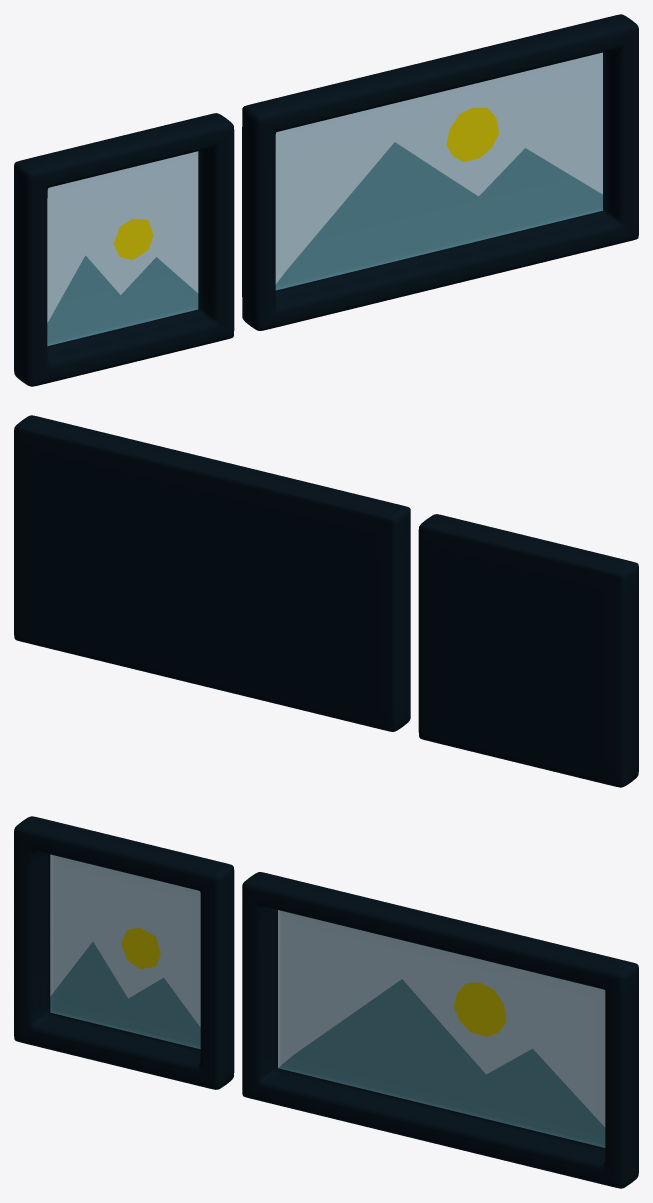
Rendered from FiguraSet.fbx.
3 views of the same model, one above another, from view 1: azimuth 30°, elevation 25°; view 2: azimuth 150°, elevation 25°; view 3: azimuth 330°, elevation 25° (orthographic).
Parts seen in each view (by area): view 1: Cube.013; view 2: Cube.013; view 3: Cube.013.
Boxes of the visible parts, bbox=[...] form: Cube.013: bbox=[14, 14, 638, 386]; Cube.013: bbox=[14, 415, 638, 787]; Cube.013: bbox=[14, 816, 638, 1188].
Size of the model in its own units: 277 by 94.23 by 13.5.
